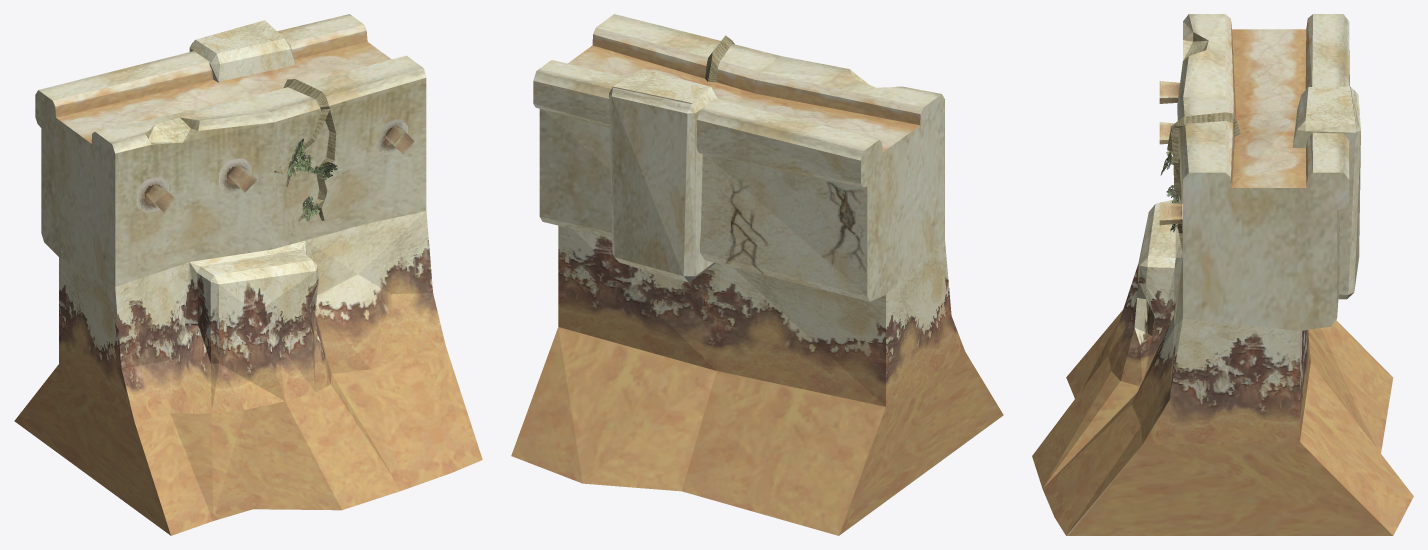
Rendered from C2SMWA10BH.obj.
3 renders of one model, left to right at view 1: azimuth 30°, elevation 25°; view 2: azimuth 150°, elevation 25°; view 3: azimuth 270°, elevation 25°, orthographic. The views are drawn at different scales.
Parts seen in each view (by area): view 1: Node 0; view 2: Node 0; view 3: Node 0.
Part boxes in pixels (box(x1,y1,x2,y2)): Node 0: box(14, 14, 482, 535); Node 0: box(511, 14, 1003, 535); Node 0: box(1032, 14, 1413, 535).
Size of the model in its own units: 10 by 10.97 by 10.18.
Materials: 5 (5 with a texture image).
